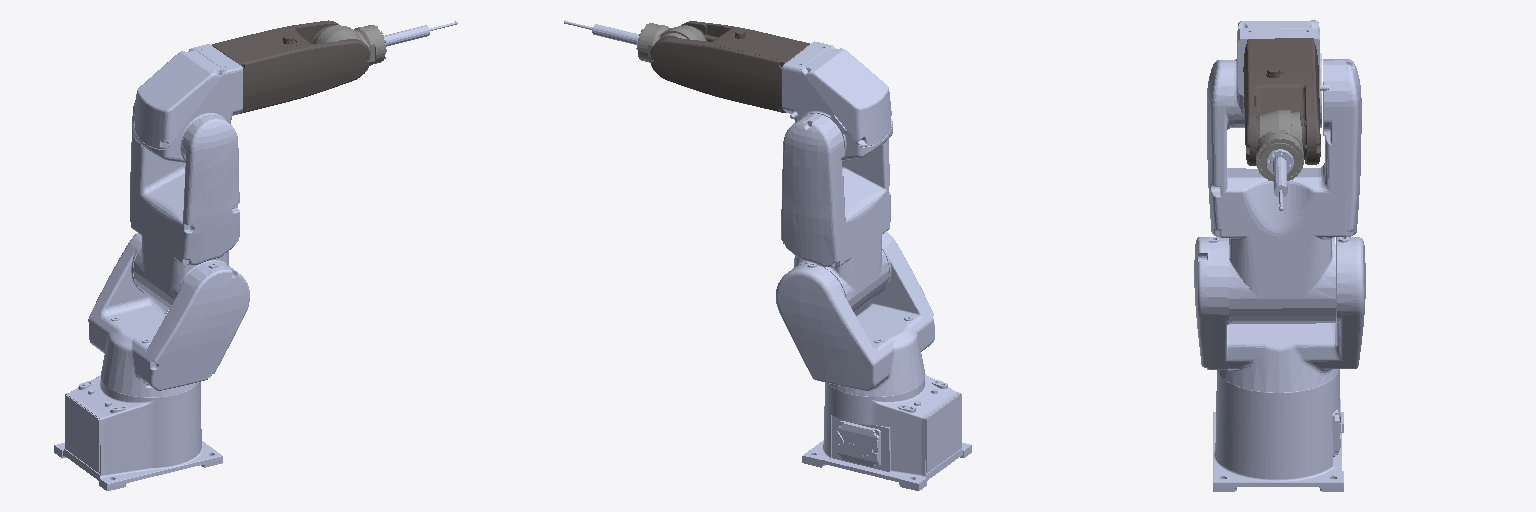
robot.urdf — robot_arm:
<?xml version="1.0" encoding="utf-8"?>
<!-- This URDF was automatically created by SolidWorks to URDF Exporter! Originally created by Stephen Brawner (brawner@gmail.com) 
     Commit Version: 1.6.0-4-g7f85cfe  Build Version: 1.6.7995.38578
     For more information, please see http://wiki.ros.org/sw_urdf_exporter -->
<robot
  name="robot_arm">
  <link
    name="base_link">
    <inertial>
      <origin
        xyz="-0.024587 0.077167 0.00011274"
        rpy="0 0 0" />
      <mass
        value="5.0495" />
      <inertia
        ixx="0.01978"
        ixy="-0.00092627"
        ixz="-9.7216E-05"
        iyy="0.029874"
        iyz="3.6241E-05"
        izz="0.02842" />
    </inertial>
    <visual>
      <origin
        xyz="0 0 0"
        rpy="0 0 0" />
      <geometry>
        <mesh
          filename="package://robot_arm/meshes/base_link.STL" />
      </geometry>
      <material
        name="">
        <color
          rgba="0.79216 0.81961 0.93333 1" />
      </material>
    </visual>
    <collision>
      <origin
        xyz="0 0 0"
        rpy="0 0 0" />
      <geometry>
        <mesh
          filename="package://robot_arm/meshes/base_link.STL" />
      </geometry>
    </collision>
  </link>
  <link
    name="Link1">
    <inertial>
      <origin
        xyz="0.022476 -0.000798 0.087786"
        rpy="0 0 0" />
      <mass
        value="4.5403" />
      <inertia
        ixx="0.043956"
        ixy="0.00045139"
        ixz="-0.006916"
        iyy="0.027159"
        iyz="0.00080323"
        izz="0.03899" />
    </inertial>
    <visual>
      <origin
        xyz="0 0 0"
        rpy="0 0 0" />
      <geometry>
        <mesh
          filename="package://robot_arm/meshes/Link1.STL" />
      </geometry>
      <material
        name="">
        <color
          rgba="0.79216 0.81961 0.93333 1" />
      </material>
    </visual>
    <collision>
      <origin
        xyz="0 0 0"
        rpy="0 0 0" />
      <geometry>
        <mesh
          filename="package://robot_arm/meshes/Link1.STL" />
      </geometry>
    </collision>
  </link>
  <joint
    name="Joint1"
    type="revolute">
    <origin
      xyz="0 0 0"
      rpy="0 0 0" />
    <parent
      link="base_link" />
    <child
      link="Link1" />
    <axis
      xyz="0 0 1" />
    <limit
      lower="-2.967"
      upper="2.967"
      effort="150"
      velocity="6.11" />
  </joint>
  <link
    name="Link2">
    <inertial>
      <origin
        xyz="-0.0001409 0.010562 0.10999"
        rpy="0 0 0" />
      <mass
        value="5.9547" />
      <inertia
        ixx="0.08517"
        ixy="2.8942E-05"
        ixz="-0.00017346"
        iyy="0.067508"
        iyz="-0.0041889"
        izz="0.02961" />
    </inertial>
    <visual>
      <origin
        xyz="0 0 0"
        rpy="0 0 0" />
      <geometry>
        <mesh
          filename="package://robot_arm/meshes/Link2.STL" />
      </geometry>
      <material
        name="">
        <color
          rgba="0.79216 0.81961 0.93333 1" />
      </material>
    </visual>
    <collision>
      <origin
        xyz="0 0 0"
        rpy="0 0 0" />
      <geometry>
        <mesh
          filename="package://robot_arm/meshes/Link2.STL" />
      </geometry>
    </collision>
  </link>
  <joint
    name="Joint2"
    type="revolute">
    <origin
      xyz="0.075 0 0.33"
      rpy="1.57 0 0" />
    <parent
      link="Link1" />
    <child
      link="Link2" />
    <axis
      xyz="0 0 1" />
    <limit
      lower="-1.75"
      upper="1.75"
      effort="150"
      velocity="6.11" />
  </joint>
  <link
    name="Link3">
    <inertial>
      <origin
        xyz="0.00024583 -0.0013634 0.037875"
        rpy="0 0 0" />
      <mass
        value="2.7112" />
      <inertia
        ixx="0.0085847"
        ixy="-4.1671E-06"
        ixz="-0.0017191"
        iyy="0.010327"
        iyz="-3.7885E-05"
        izz="0.0083756" />
    </inertial>
    <visual>
      <origin
        xyz="0 0 0"
        rpy="0 0 0" />
      <geometry>
        <mesh
          filename="package://robot_arm/meshes/Link3.STL" />
      </geometry>
      <material
        name="">
        <color
          rgba="0.79216 0.81961 0.93333 1" />
      </material>
    </visual>
    <collision>
      <origin
        xyz="0 0 0"
        rpy="0 0 0" />
      <geometry>
        <mesh
          filename="package://robot_arm/meshes/Link3.STL" />
      </geometry>
    </collision>
  </link>
  <joint
    name="Joint3"
    type="revolute">
    <origin
      xyz="0 0.3 0"
      rpy="0 0 1.57" />
    <parent
      link="Link2" />
    <child
      link="Link3" />
    <axis
      xyz="0 0 1" />
    <limit
      lower="-3.39"
      upper="3.39"
      effort="150"
      velocity="6.98" />
  </joint>
  <link
    name="Link4">
    <inertial>
      <origin
        xyz="0.10802 0.0043057 0.00023323"
        rpy="0 0 0" />
      <mass
        value="2.1555" />
      <inertia
        ixx="0.0038737"
        ixy="-0.00013393"
        ixz="7.1742E-06"
        iyy="0.01137"
        iyz="5.788E-06"
        izz="0.012084" />
    </inertial>
    <visual>
      <origin
        xyz="0 0 0"
        rpy="0 0 0" />
      <geometry>
        <mesh
          filename="package://robot_arm/meshes/Link4.STL" />
      </geometry>
      <material
        name="">
        <color
          rgba="0.43922 0.41176 0.41176 1" />
      </material>
    </visual>
    <collision>
      <origin
        xyz="0 0 0"
        rpy="0 0 0" />
      <geometry>
        <mesh
          filename="package://robot_arm/meshes/Link4.STL" />
      </geometry>
    </collision>
  </link>
  <joint
    name="Joint4"
    type="revolute">
    <origin
      xyz="0.075 -0.0797 0"
      rpy="1.57 0 0" />
    <parent
      link="Link3" />
    <child
      link="Link4" />
    <axis
      xyz="0 0 1" />
    <limit
      lower="-3.32"
      upper="3.32"
      effort="150"
      velocity="7.85" />
  </joint>
  <link
    name="Link5">
    <inertial>
      <origin
        xyz="0.0153078356534119 0.000124463567926165 -1.11477608255584E-07"
        rpy="0 0 0" />
      <mass
        value="0.44712390345481" />
      <inertia
        ixx="0.000308363529017824"
        ixy="1.26356706322311E-05"
        ixz="-3.26579097031242E-09"
        iyy="0.000602738420359486"
        iyz="6.39330219052281E-09"
        izz="0.000549103685210108" />
    </inertial>
    <visual>
      <origin
        xyz="0 0 0"
        rpy="0 0 0" />
      <geometry>
        <mesh
          filename="package://robot_arm/meshes/Link5.STL" />
      </geometry>
      <material
        name="">
        <color
          rgba="0.6 0.6 0.6 1" />
      </material>
    </visual>
    <collision>
      <origin
        xyz="0 0 0"
        rpy="0 0 0" />
      <geometry>
        <mesh
          filename="package://robot_arm/meshes/Link5.STL" />
      </geometry>
    </collision>
  </link>
  <joint
    name="Joint5"
    type="revolute">
    <origin
      xyz="0 0 0.2403"
      rpy="-1.57 0 0" />
    <parent
      link="Link4" />
    <child
      link="Link5" />
    <axis
      xyz="0 0 1" />
    <limit
      lower="-2.09"
      upper="2.09"
      effort="150"
      velocity="7.85" />
  </joint>
  <link
    name="Link6">
    <inertial>
      <origin
        xyz="-5.03127784955426E-05 2.41695441438594E-10 0.0456992890449732"
        rpy="0 0 0" />
      <mass
        value="0.0461035576308397" />
      <inertia
        ixx="3.75464498964161E-05"
        ixy="1.59928162022076E-13"
        ixz="6.09305980553033E-09"
        iyy="3.75095143623229E-05"
        iyz="-8.2009577947805E-13"
        izz="4.35514695312626E-06" />
    </inertial>
    <visual>
      <origin
        xyz="0 0 0"
        rpy="0 0 0" />
      <geometry>
        <mesh
          filename="package://robot_arm/meshes/Link6.STL" />
      </geometry>
      <material
        name="">
        <color
          rgba="0.792156862745098 0.819607843137255 0.933333333333333 1" />
      </material>
    </visual>
    <collision>
      <origin
        xyz="0 0 0"
        rpy="0 0 0" />
      <geometry>
        <mesh
          filename="package://robot_arm/meshes/Link6.STL" />
      </geometry>
    </collision>
  </link>
  <joint
    name="Joint6"
    type="revolute">
    <origin
      xyz="0 -0.08 0"
      rpy="1.57 0 0" />
    <parent
      link="Link5" />
    <child
      link="Link6" />
    <axis
      xyz="0 0 1" />
    <limit
      lower="-6.28"
      upper="6.28"
      effort="150"
      velocity="12.56" />
  </joint>
</robot>

--- Facts derived from the render (not from the file) ---
The picture shows the robot from 3 angles, left to right: view 1: azimuth 30°, elevation 25°; view 2: azimuth 150°, elevation 25°; view 3: azimuth 270°, elevation 25°; orthographic projection.
Model robot_arm with 7 links and 6 joints (6 revolute), rooted at base_link, posed every joint at zero.
Links seen in each view (by area): view 1: Link1, Link2, base_link, Link4, Link3, Link5, Link6; view 2: Link1, Link2, base_link, Link4, Link3, Link5, Link6; view 3: Link2, Link1, base_link, Link4, Link3, Link5, Link6.
Boxes of the visible links, box(x1,y1,x2,y2) form: Link1: box(88, 233, 249, 396); Link2: box(130, 100, 239, 309); base_link: box(54, 375, 222, 490); Link4: box(212, 20, 370, 113); Link3: box(133, 44, 242, 162); Link5: box(316, 25, 386, 65); Link6: box(384, 21, 457, 46); Link1: box(776, 231, 934, 396); Link2: box(781, 113, 890, 311); base_link: box(802, 374, 971, 490); Link4: box(650, 21, 809, 112); Link3: box(782, 41, 892, 160); Link5: box(636, 23, 705, 62); Link6: box(564, 20, 639, 46); Link2: box(1207, 59, 1361, 323); Link1: box(1194, 237, 1365, 392); base_link: box(1213, 370, 1343, 491); Link4: box(1243, 38, 1320, 165); Link3: box(1234, 20, 1328, 127); Link5: box(1256, 110, 1303, 181); Link6: box(1266, 149, 1293, 210).
Bounding box of the posed robot: 0.7823 × 0.2491 × 0.7641 m (x, y, z).
Meshes: 7 distinct files referenced, 7 mesh visuals loaded (7 binary STL).
